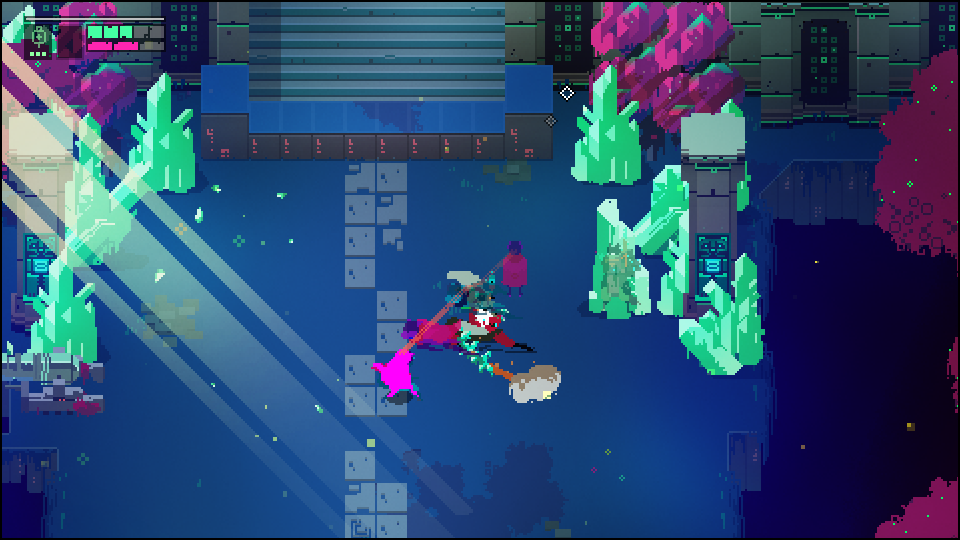hanged_man: (441, 268, 530, 385)
player: (374, 347, 424, 398)
